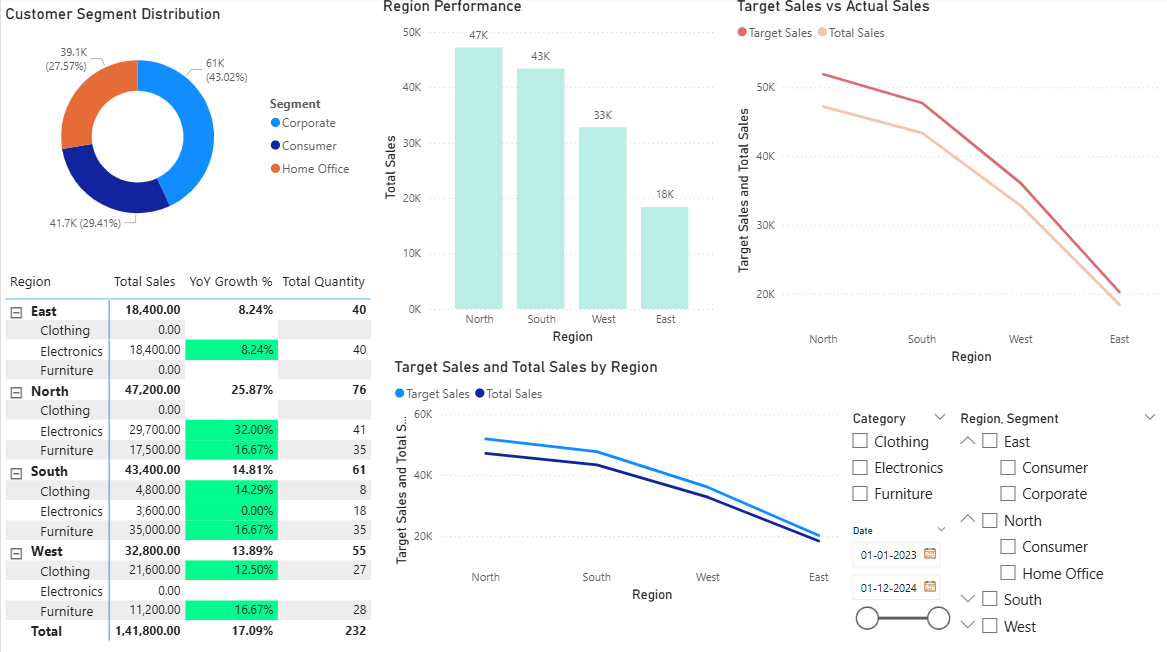

This screenshot's page, from the dashboard's own definition file:
{"tool":"powerbi","page":{"name":"Dashboard 2","canvas":[1280,720],"ordinal":1},"visuals":[{"type":"clusteredColumnChart","title":"Region Performance","fields":{"Category":["sales_project customers.Region"],"Y":["sales_project sales.Total Sales"]},"box":[413.9,0,375,387.5],"z":1000},{"type":"lineChart","fields":{"Category":["sales_project customers.Region"],"Y":["sales_project sales.Target Sales","sales_project sales.Total Sales"]},"box":[426.4,397.2,525,273.6],"z":1500},{"type":"donutChart","title":"Customer Segment Distribution","fields":{"Category":["sales_project customers.Segment"],"Y":["sales_project sales.Total Sales"]},"box":[0,9.7,397.2,270.8],"z":2000},{"type":"pivotTable","fields":{"Rows":["sales_project customers.Region","sales_project products.Category"],"Values":["sales_project sales.Total Sales","Calendar.YoY Growth %","sales_project sales.Total Quantity"]},"box":[0,295.8,413.9,423.6],"z":3000},{"type":"actionButton","box":[0,0,100,40],"z":4000},{"type":"slicer","fields":{"Values":["sales_project customers.Region","sales_project customers.Segment"]},"box":[1040.3,450,240.3,262.5],"z":5000},{"type":"slicer","fields":{"Values":["sales_project products.Category"]},"box":[922.2,450,127.8,115.3],"z":6000},{"type":"slicer","fields":{"Values":["Calendar.Date"]},"box":[922.2,575,127.8,144.4],"z":7000},{"type":"lineChart","title":"Target Sales vs Actual Sales ","fields":{"Category":["sales_project customers.Region"],"Y":["sales_project sales.Target Sales","sales_project sales.Total Sales"]},"box":[802.8,0,473.6,408.3],"z":9000}]}

Visuals, with their boxes in screenshot pixels (x1, y1, x2, y2), scaled from the page's 1280x720 canvas onto the 1167x652 screenshot:
"Region Performance" clusteredColumnChart: <bbox>377, 0, 719, 351</bbox>
lineChart - sales_project customers.Region x sales_project sales.Target Sales: <bbox>389, 360, 867, 607</bbox>
"Customer Segment Distribution" donutChart: <bbox>0, 9, 362, 254</bbox>
pivotTable - sales_project customers.Region x sales_project products.Category: <bbox>0, 268, 377, 651</bbox>
actionButton: <bbox>0, 0, 91, 36</bbox>
slicer - sales_project customers.Region x sales_project customers.Segment: <bbox>948, 408, 1166, 645</bbox>
slicer - sales_project products.Category: <bbox>841, 408, 957, 512</bbox>
slicer - Calendar.Date: <bbox>841, 521, 957, 651</bbox>
"Target Sales vs Actual Sales " lineChart: <bbox>732, 0, 1164, 370</bbox>
